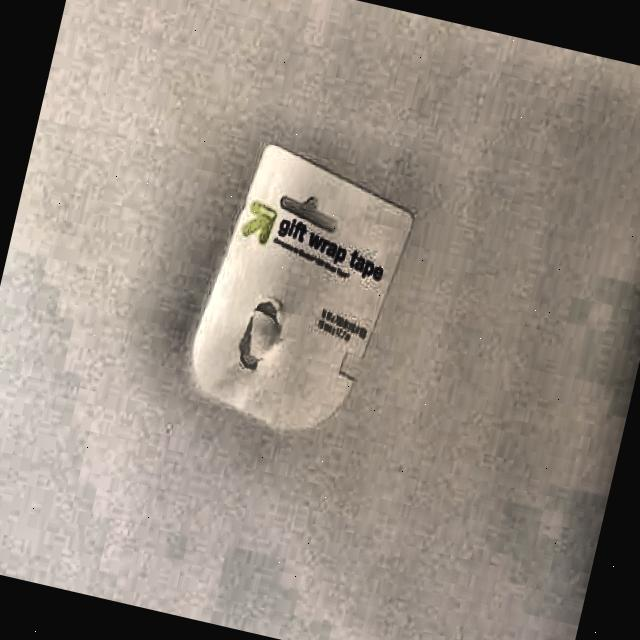paper: (173, 133, 428, 449)
